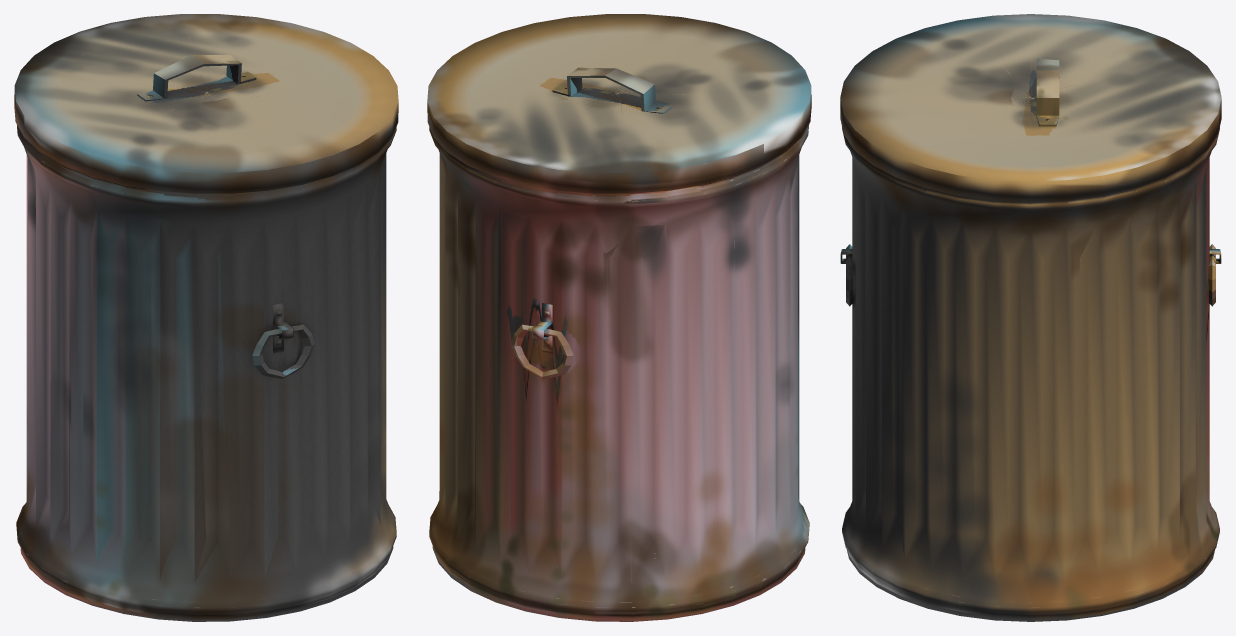
The picture shows the model from 3 angles, left to right: view 1: azimuth 30°, elevation 25°; view 2: azimuth 150°, elevation 25°; view 3: azimuth 270°, elevation 25°; orthographic projection.
Visible parts, largest first — view 1: Plane; view 2: Plane; view 3: Plane.
Part boxes in pixels (left/top/right/bottom): Plane: left=14, top=14, right=398, bottom=621; Plane: left=427, top=14, right=811, bottom=621; Plane: left=840, top=14, right=1221, bottom=621.
Size of the model in its own units: 145 by 199 by 145.
1 material, 1 textured.
